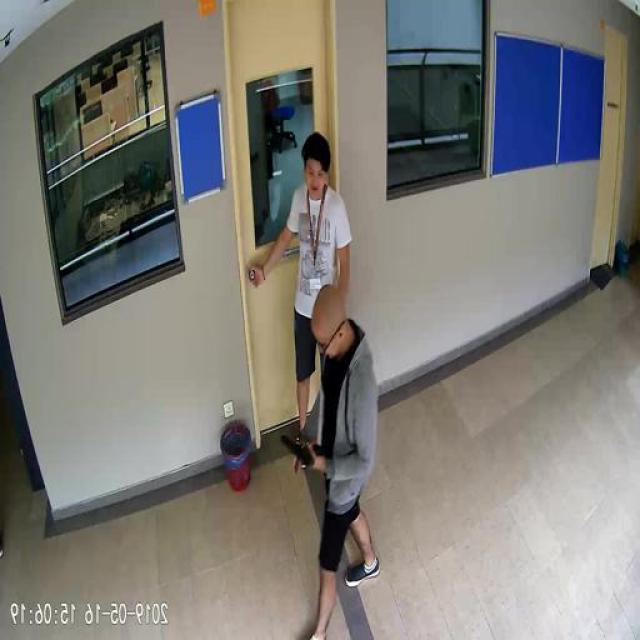Gun: (284, 432, 324, 466)
